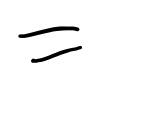eqv: (19, 26, 82, 63)
